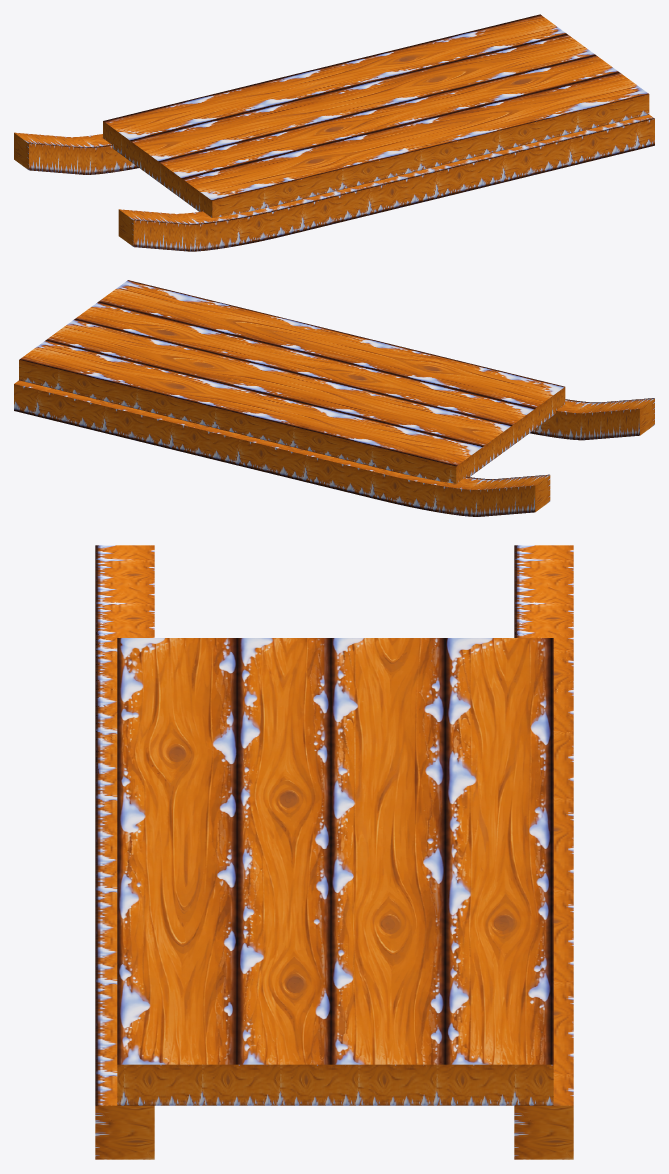
File: sled.fbx
3 views of the same model, one above another, from view 1: azimuth 30°, elevation 25°; view 2: azimuth 150°, elevation 25°; view 3: azimuth 270°, elevation 25° (orthographic). The views are drawn at different scales.
Visible parts, largest first — view 1: Cube.002; view 2: Cube.002; view 3: Cube.002.
Part boxes in pixels (x1,y1,x2,y2): Cube.002: (14,14,654,251); Cube.002: (14,280,654,516); Cube.002: (95,545,573,1159).
Size of the model in its own units: 10112 by 976 by 4019.
Materials: 1 (1 with a texture image).
